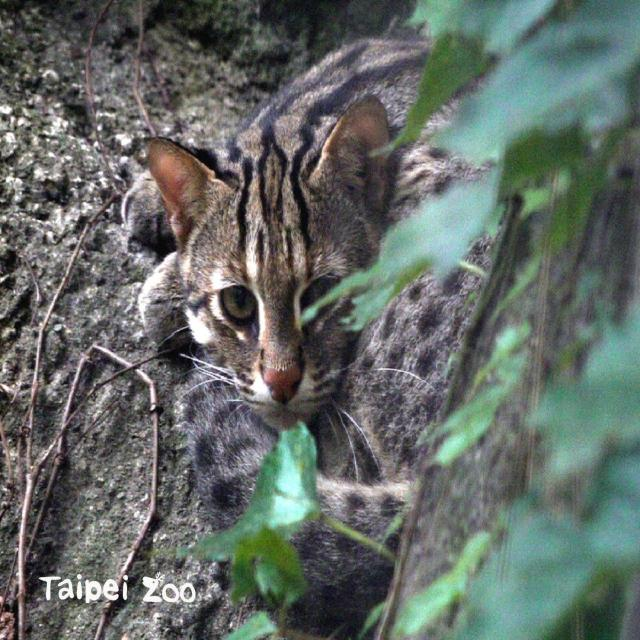leopard: (128, 22, 539, 638)
